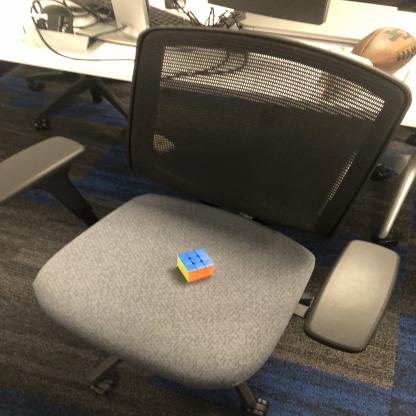SolvedCube: (172, 246, 216, 284)
